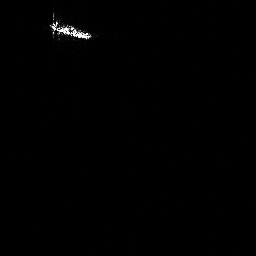ship: (47, 16, 94, 42)
